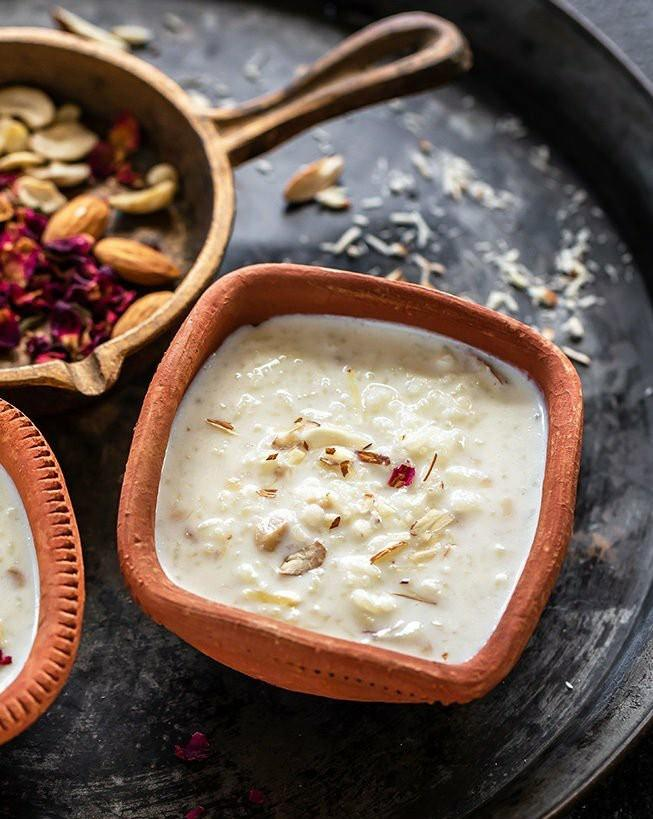Kheer: (161, 311, 549, 669), (0, 451, 43, 691)
